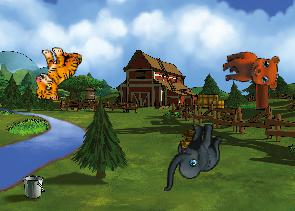bear: (220, 48, 282, 95)
elephant: (163, 121, 222, 193)
tiger: (33, 45, 82, 102)
